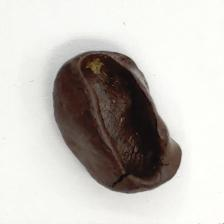NG: (86, 94, 173, 142), (74, 51, 149, 92), (110, 145, 183, 179)
